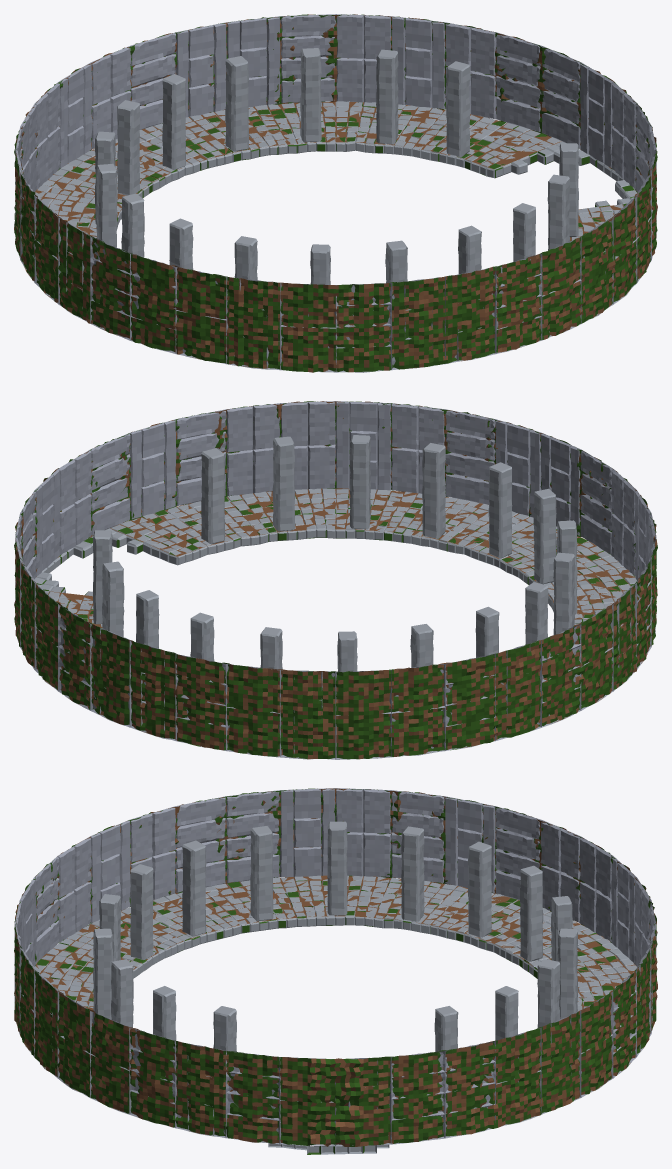
Rendered from kat3.fbx.
3 renders of one model, top to bottom at view 1: azimuth 30°, elevation 25°; view 2: azimuth 150°, elevation 25°; view 3: azimuth 270°, elevation 25°, orthographic.
Visible parts, largest first — view 1: Cylinder; view 2: Cylinder; view 3: Cylinder.
Boxes of the visible parts, box(x1,y1,x2,y2) form: Cylinder: box(14, 14, 657, 372); Cylinder: box(14, 401, 657, 759); Cylinder: box(14, 788, 657, 1154).
Size of the model in its own units: 4033 by 673 by 4015.
